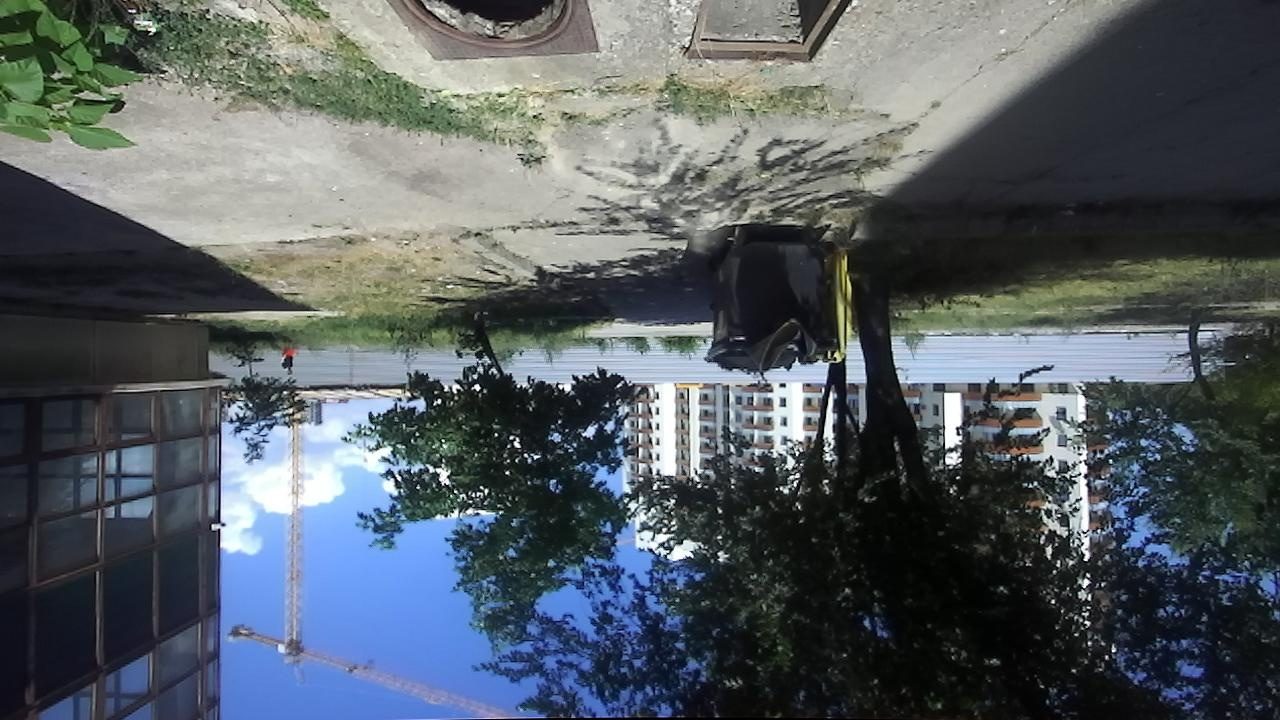drain: (683, 0, 857, 64), (391, 0, 583, 51)
